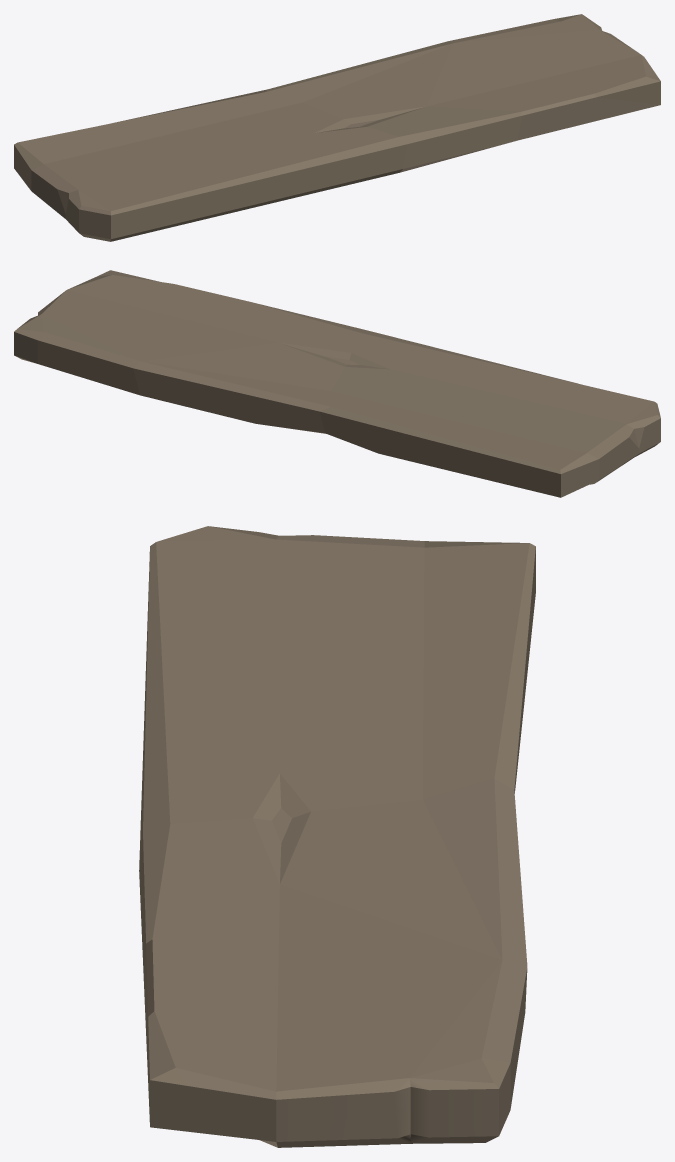
Rendered from Plank.fbx.
3 views of the same model, one above another, from view 1: azimuth 30°, elevation 25°; view 2: azimuth 150°, elevation 25°; view 3: azimuth 270°, elevation 25° (orthographic). The views are drawn at different scales.
Visible parts, largest first — view 1: Plank; view 2: Plank; view 3: Plank.
Boxes of the visible parts, bbox=[...] form: Plank: bbox=[14, 14, 660, 241]; Plank: bbox=[14, 270, 660, 497]; Plank: bbox=[139, 526, 535, 1147].
Bounding box in the file's own units: 263 × 14.28 × 77.87.
